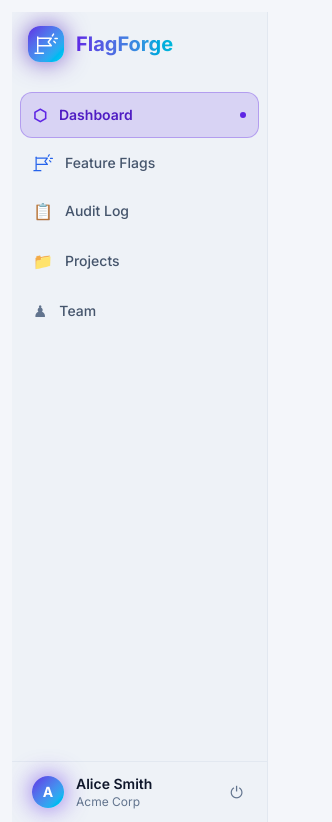
Test case: Sidebar › open/collapsed states › toggles between expanded and collapsed using the sidebar controls
Click the button with aria-label "Collapse sidebar" at (140, 44), box 12,12 -> 267,76
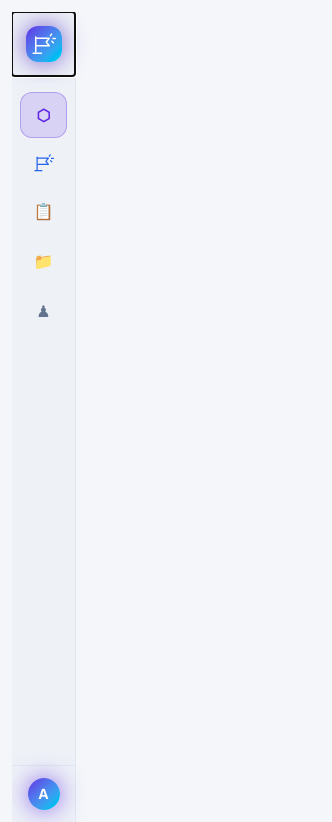
Click the button named "Expand sidebar from user footer" at (44, 794), box 28,778 -> 60,810
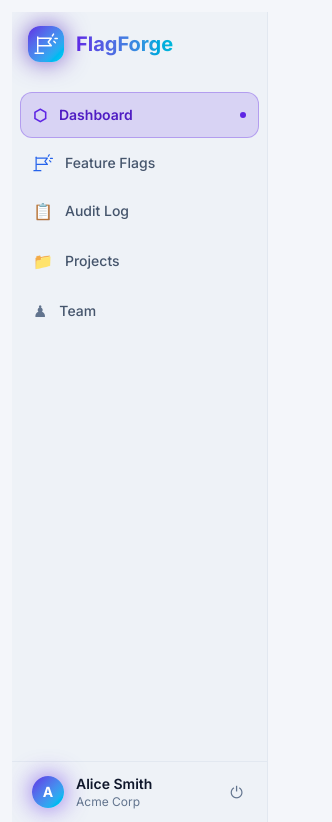
expect the button with aria-label "Collapse sidebar" is shown: met, box 12,12 -> 267,76
